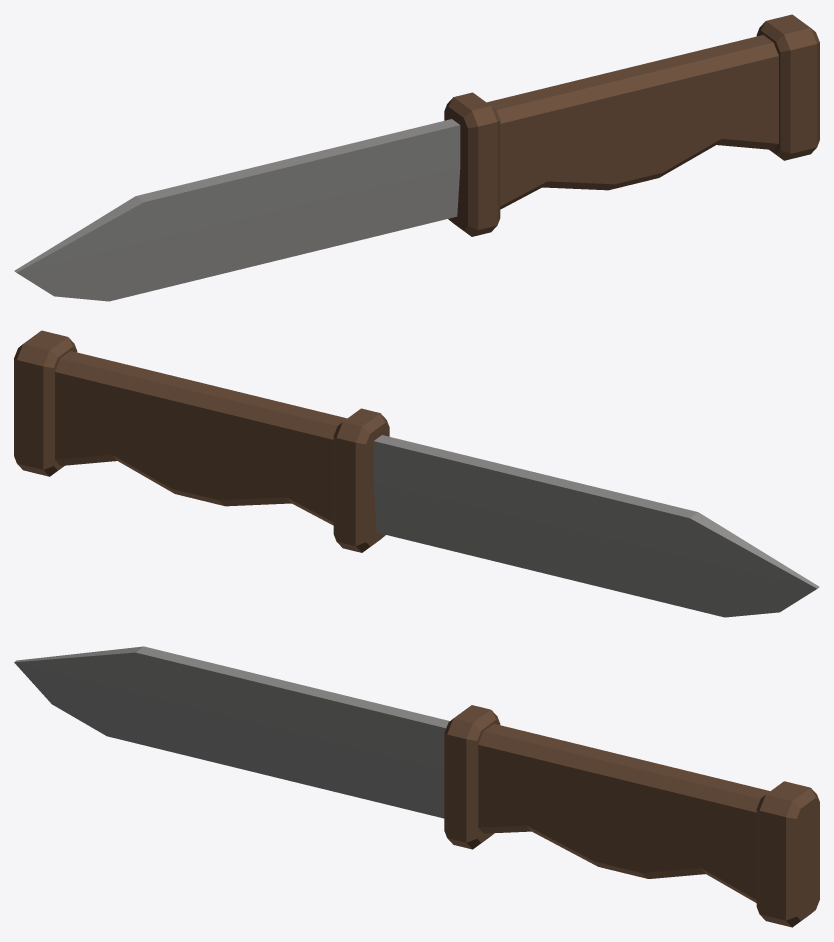
Rendered from SM_Props_Interior_Shop_Gun_Knife_01.fbx.
The picture shows the model from 3 angles, top to bottom: view 1: azimuth 30°, elevation 25°; view 2: azimuth 150°, elevation 25°; view 3: azimuth 330°, elevation 25°; orthographic projection.
Visible parts, largest first — view 1: SM_Props_Interior_Shop_Gun_Knife_01; view 2: SM_Props_Interior_Shop_Gun_Knife_01; view 3: SM_Props_Interior_Shop_Gun_Knife_01.
Boxes of the visible parts, x1,y1,x2,y2 form: SM_Props_Interior_Shop_Gun_Knife_01: (14,14,819,301); SM_Props_Interior_Shop_Gun_Knife_01: (14,330,819,617); SM_Props_Interior_Shop_Gun_Knife_01: (14,646,819,927).
Bounding box in the file's own units: 28.83 × 4.39 × 1.95.
